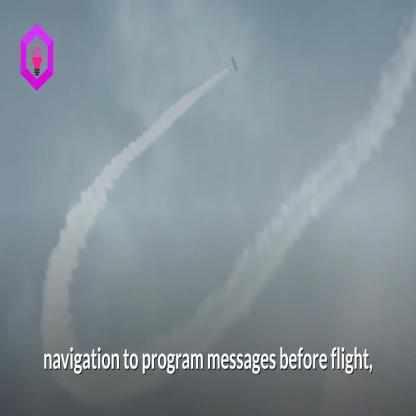plane: (227, 50, 243, 74)
